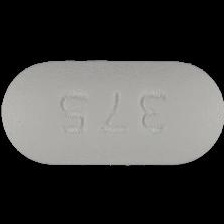54868-3974: (0, 0, 224, 224)
